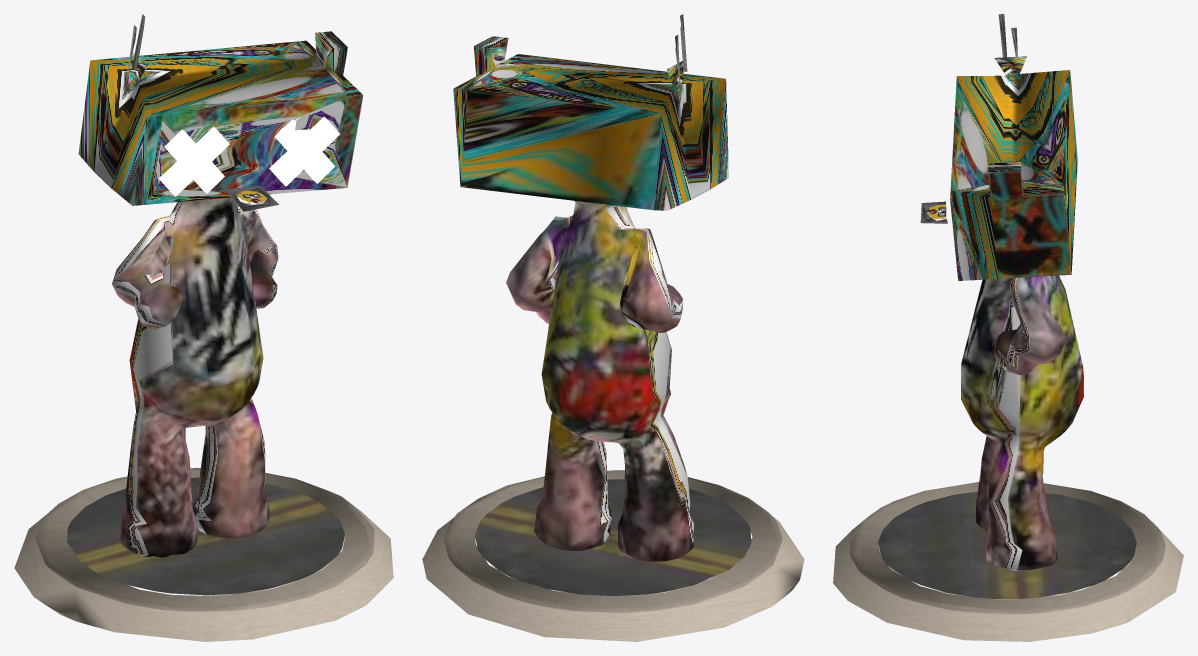
3 renders of one model, left to right at view 1: azimuth 30°, elevation 25°; view 2: azimuth 150°, elevation 25°; view 3: azimuth 270°, elevation 25°, orthographic. The views are drawn at different scales.
Size of the model in its own units: 1.44 by 2.35 by 1.42.
Materials: 9 (5 with a texture image).
